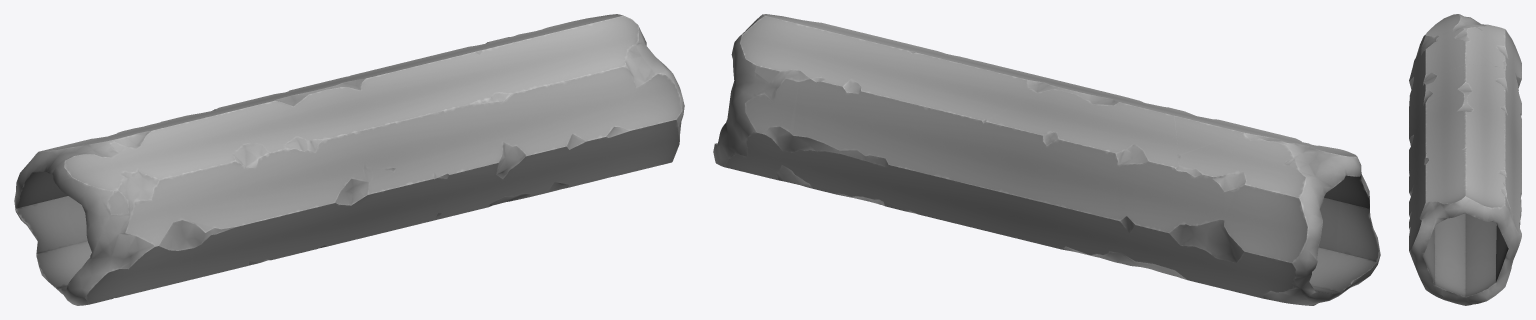
Rendered from MESH_Tunnel.glb.
The picture shows the model from 3 angles, left to right: view 1: azimuth 30°, elevation 25°; view 2: azimuth 150°, elevation 25°; view 3: azimuth 270°, elevation 25°; orthographic projection. The views are drawn at different scales.
Parts seen in each view (by area): view 1: MESH_Tunnel; view 2: MESH_Tunnel; view 3: MESH_Tunnel.
Part boxes in pixels (x1,y1,x2,y2): MESH_Tunnel: (14, 14, 684, 305); MESH_Tunnel: (713, 14, 1380, 305); MESH_Tunnel: (1409, 14, 1521, 305).
Size of the model in its own units: 5.92 by 1.4 by 1.4.
Materials: 1 (1 with a texture image).
